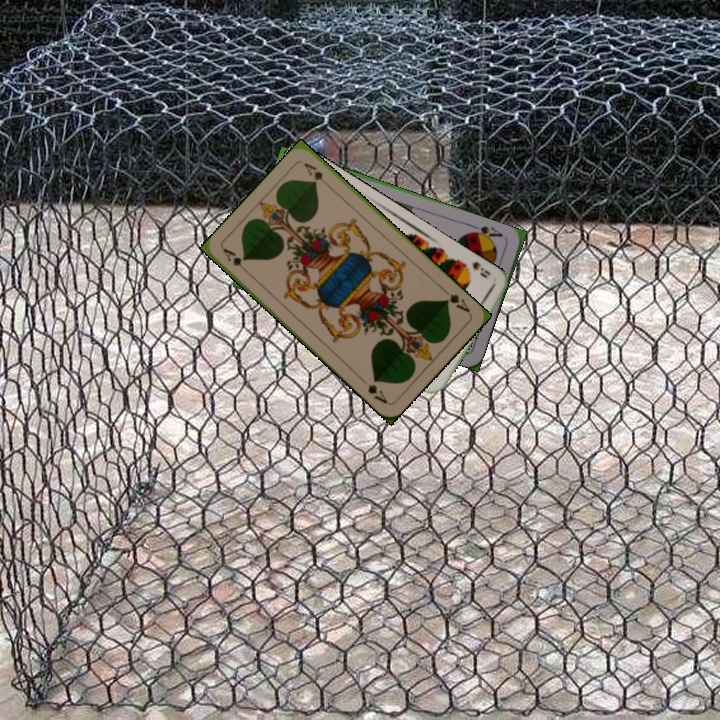GA: (219, 244, 251, 276), (439, 285, 473, 315)
S9: (457, 257, 493, 281)
SA: (466, 221, 505, 244)
